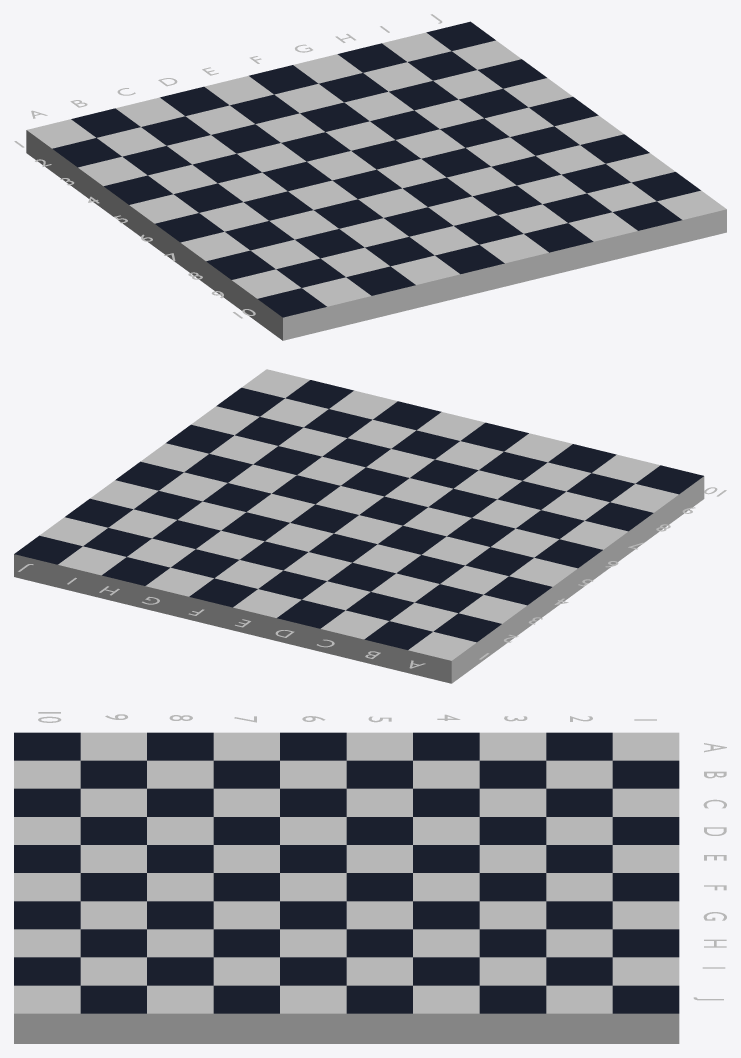
File: board.obj
3 renders of one model, top to bottom at view 1: azimuth 30°, elevation 25°; view 2: azimuth 150°, elevation 25°; view 3: azimuth 270°, elevation 25°, orthographic. The views are drawn at different scales.
Visible parts, largest first — view 1: Cube_Cube.001; view 2: Cube_Cube.001; view 3: Cube_Cube.001.
Boxes of the visible parts, x1,y1,x2,y2 form: Cube_Cube.001: (26, 21, 726, 340); Cube_Cube.001: (14, 369, 704, 683); Cube_Cube.001: (14, 732, 679, 1043).
Size of the model in its own units: 2.15 by 0.1 by 2.14.
